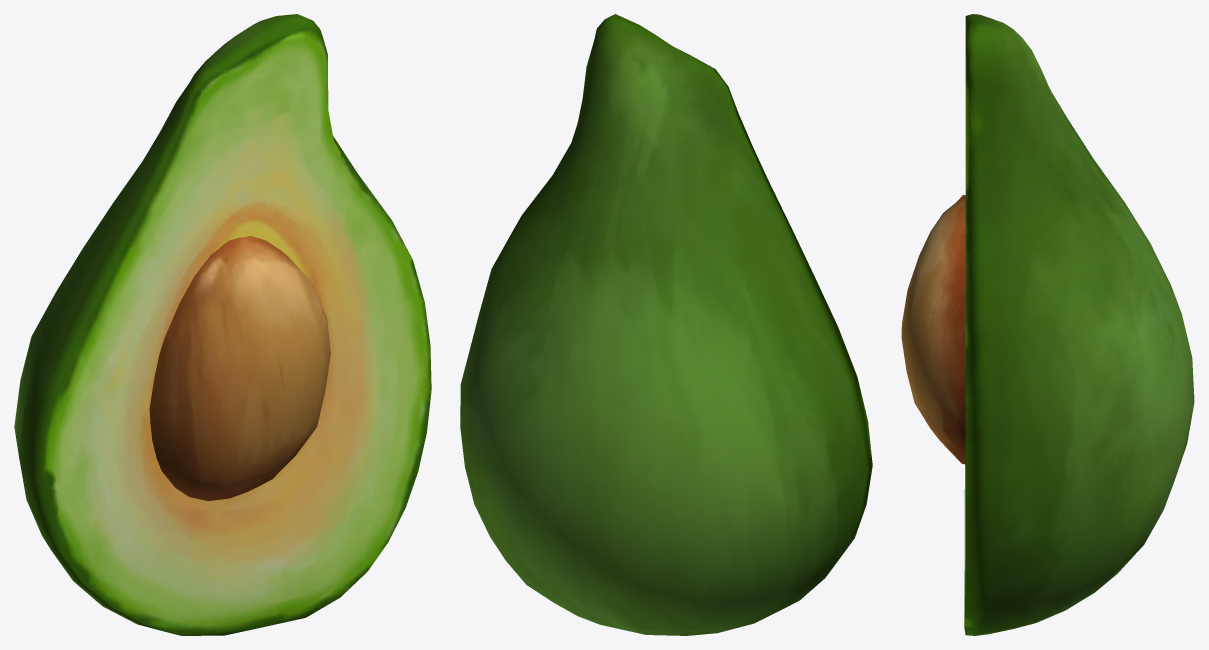
File: pine_lod0.glb
3 renders of one model, left to right at view 1: azimuth 30°, elevation 25°; view 2: azimuth 150°, elevation 25°; view 3: azimuth 270°, elevation 25°, orthographic. The views are drawn at different scales.
Visible parts, largest first — view 1: Avocado; view 2: Avocado; view 3: Avocado.
Boxes of the visible parts, <box> form: Avocado: <box>14,14,431,635</box>; Avocado: <box>460,14,872,635</box>; Avocado: <box>901,14,1194,635</box>.
Size of the model in its own units: 0.0426 by 0.0629 by 0.0276.
1 material, 1 textured.
